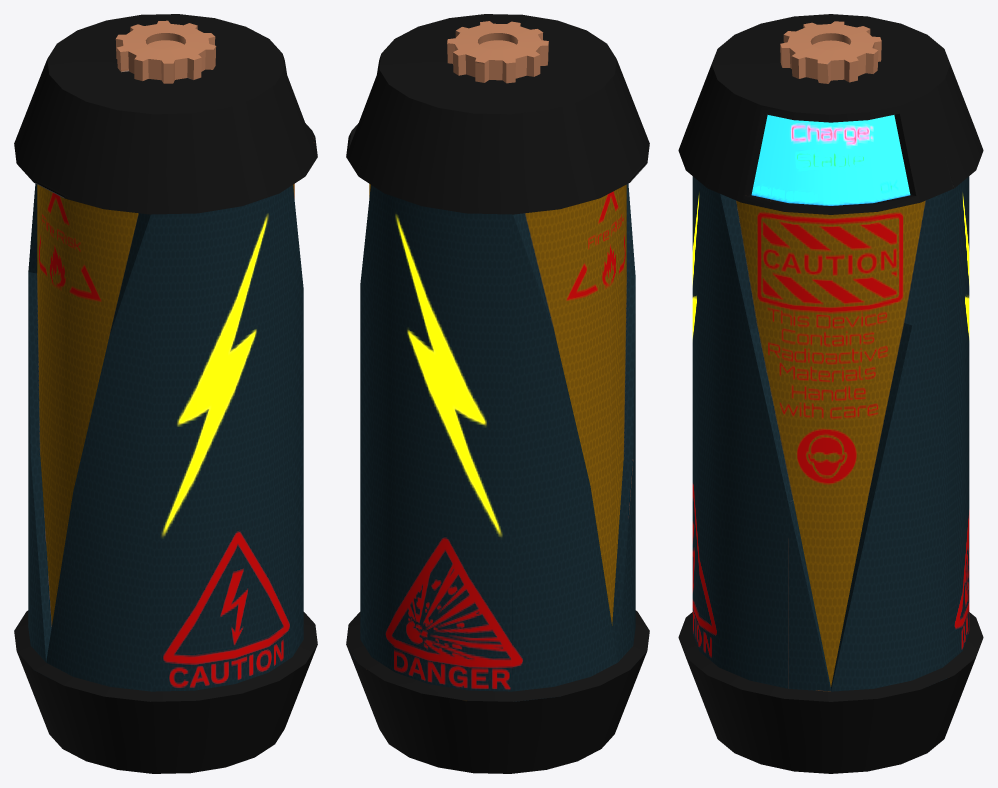
The model's file is micro_fission_battery.glb.
3 renders of one model, left to right at view 1: azimuth 30°, elevation 25°; view 2: azimuth 150°, elevation 25°; view 3: azimuth 270°, elevation 25°, orthographic.
Parts seen in each view (by area): view 1: Object_2; view 2: Object_2; view 3: Object_2.
Part boxes in pixels (left/top/right/bottom): Object_2: left=14, top=14, right=317, bottom=773; Object_2: left=346, top=14, right=649, bottom=773; Object_2: left=678, top=14, right=983, bottom=773.
Size of the model in its own units: 2.21 by 5.46 by 2.21.
Materials: 1 (1 with a texture image).
